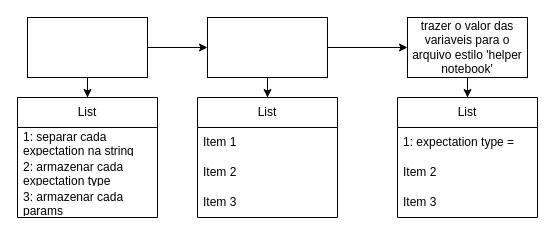
The diagram is 555 pixels wide and 235 high, and some of its shapes have lost their labels. The shapes that lost their labels are listed below. From the top down, each one's box as (x1, y1, x2, y2) in pixels, then its label:
(26, 16, 148, 78): armazenar em variaveis os valores relevantes do yaml
(206, 16, 328, 78): rodar a função que define a estrutura dos kwargs
